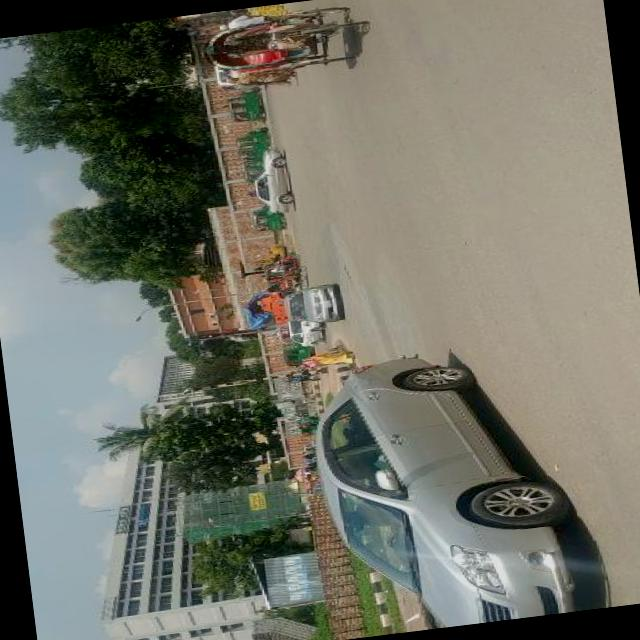car: (311, 334, 589, 640), (250, 146, 294, 217), (286, 283, 346, 327), (282, 316, 326, 344)
motorcycle: (197, 1, 372, 79), (225, 85, 267, 124), (264, 264, 309, 296), (235, 128, 268, 160), (282, 343, 316, 367), (250, 213, 286, 234), (290, 394, 318, 419), (294, 418, 314, 438), (273, 252, 299, 267)
